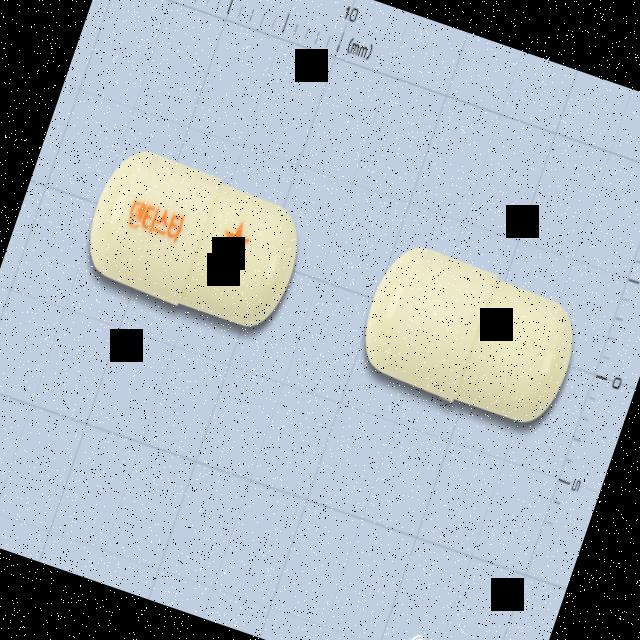Dentistar Cap: (72, 138, 317, 340)
